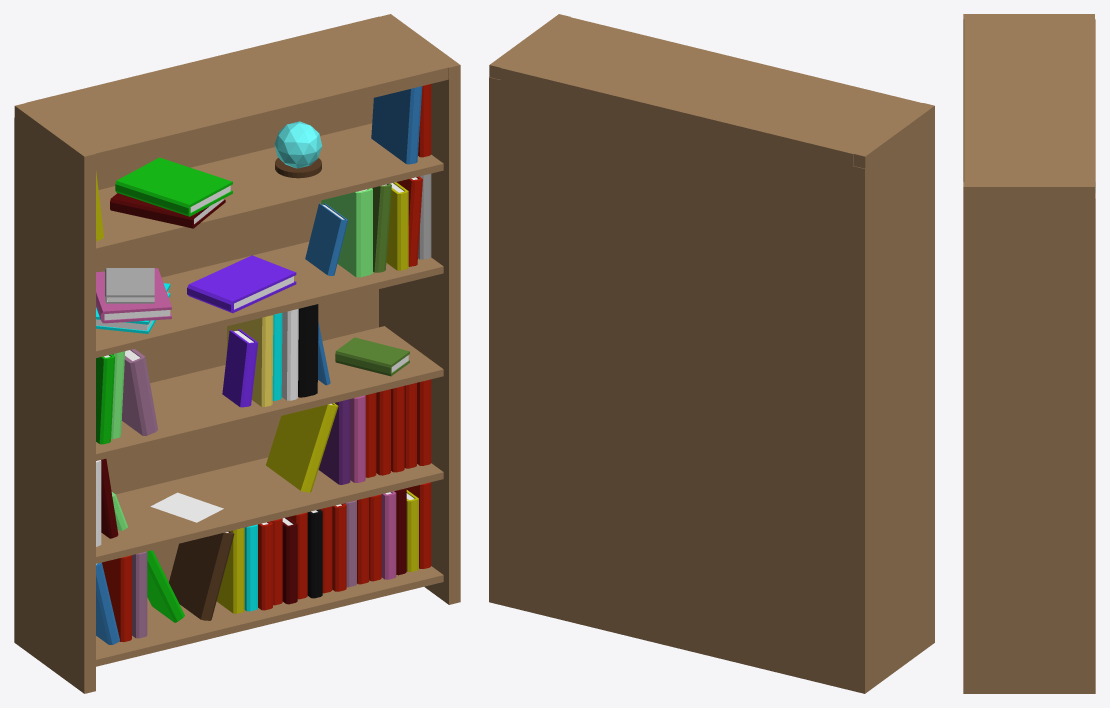
Rendered from Shelf.fbx.
3 renders of one model, left to right at view 1: azimuth 30°, elevation 25°; view 2: azimuth 150°, elevation 25°; view 3: azimuth 270°, elevation 25°, orthographic. The views are drawn at different scales.
Visible parts, largest first — view 1: Shelf_Book; view 2: Shelf_Book; view 3: Shelf_Book.
Boxes of the visible parts, x1=… form: Shelf_Book: x1=14, y1=14, x2=460, y2=693; Shelf_Book: x1=489, y1=14, x2=934, y2=693; Shelf_Book: x1=963, y1=14, x2=1095, y2=693.
Size of the model in its own units: 9.08 by 12.39 by 2.93.
